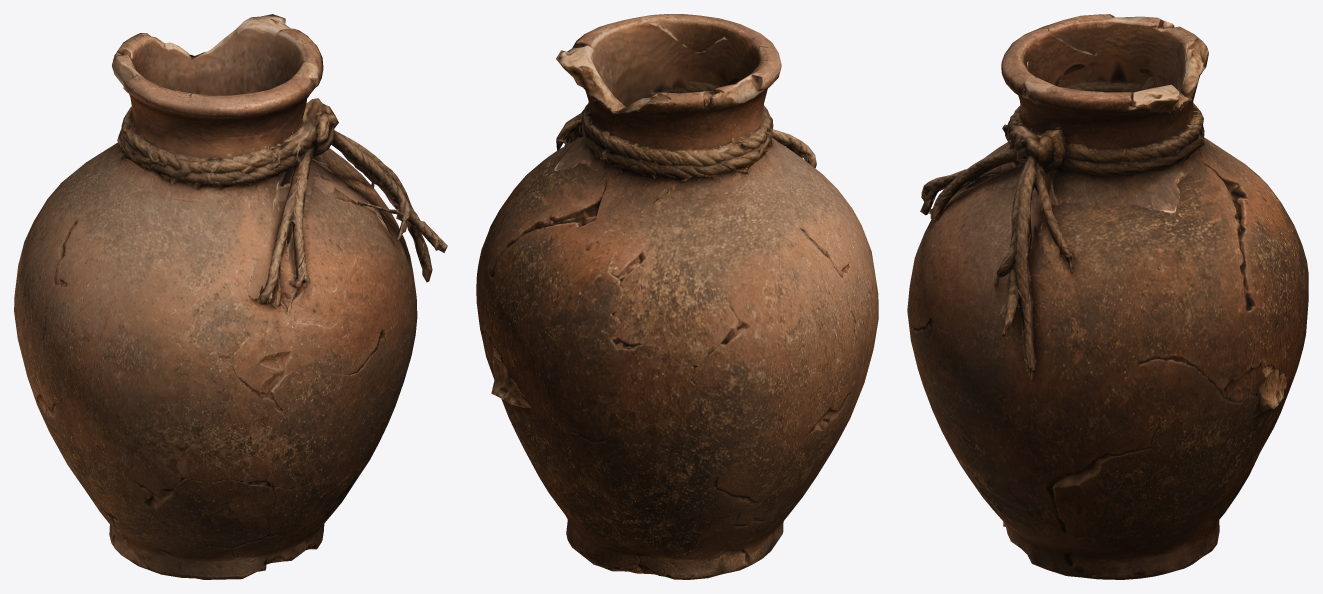
The model's file is Pot.fbx.
3 views of the same model, side by side, from view 1: azimuth 30°, elevation 25°; view 2: azimuth 150°, elevation 25°; view 3: azimuth 270°, elevation 25° (orthographic).
Visible parts, largest first — view 1: texture_mapping; view 2: texture_mapping; view 3: texture_mapping.
Boxes of the visible parts, box(x1,y1,x2,y2) form: texture_mapping: box(14, 14, 447, 579); texture_mapping: box(476, 14, 878, 579); texture_mapping: box(907, 14, 1308, 579).
Size of the model in its own units: 76.27 by 100 by 74.87.
Materials: 1 (1 with a texture image).
